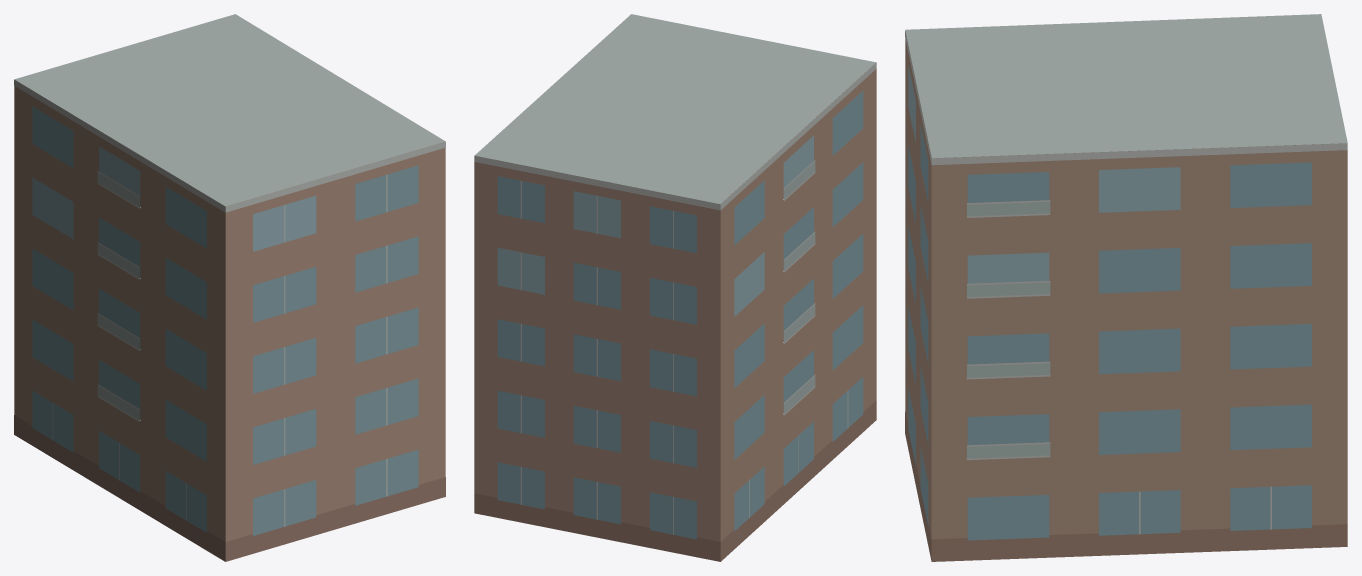
The model's file is survey-upis-33009890.glb.
3 views of the same model, side by side, from view 1: azimuth 30°, elevation 25°; view 2: azimuth 150°, elevation 25°; view 3: azimuth 270°, elevation 25° (orthographic). The views are drawn at different scales.
Visible parts, largest first — view 1: survey-upis-33009890.tmp; view 2: survey-upis-33009890.tmp; view 3: survey-upis-33009890.tmp.
Boxes of the visible parts, x1=… form: survey-upis-33009890.tmp: x1=14, y1=14, x2=445, y2=561; survey-upis-33009890.tmp: x1=474, y1=14, x2=876, y2=561; survey-upis-33009890.tmp: x1=905, y1=14, x2=1347, y2=561.
Bounding box in the file's own units: 10.82 × 14.1 × 14.03.
